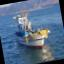fishing boat: (8, 1, 53, 54)
